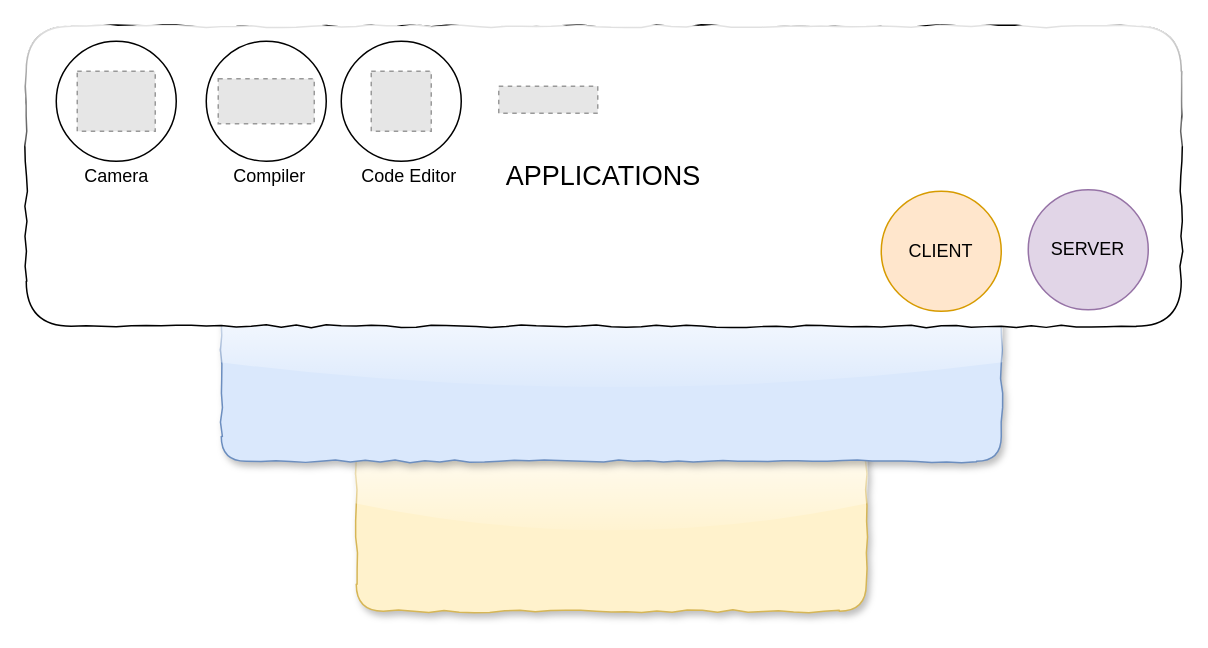
This 1208x648 diagram has some shape labels left out. Grey dashed boxes stand in for pictures. The centre of each missing label's shape, as x and y in pixels:
HARDWARE: the point at 612,523
OPERATING SYSTEM: the point at 612,380
